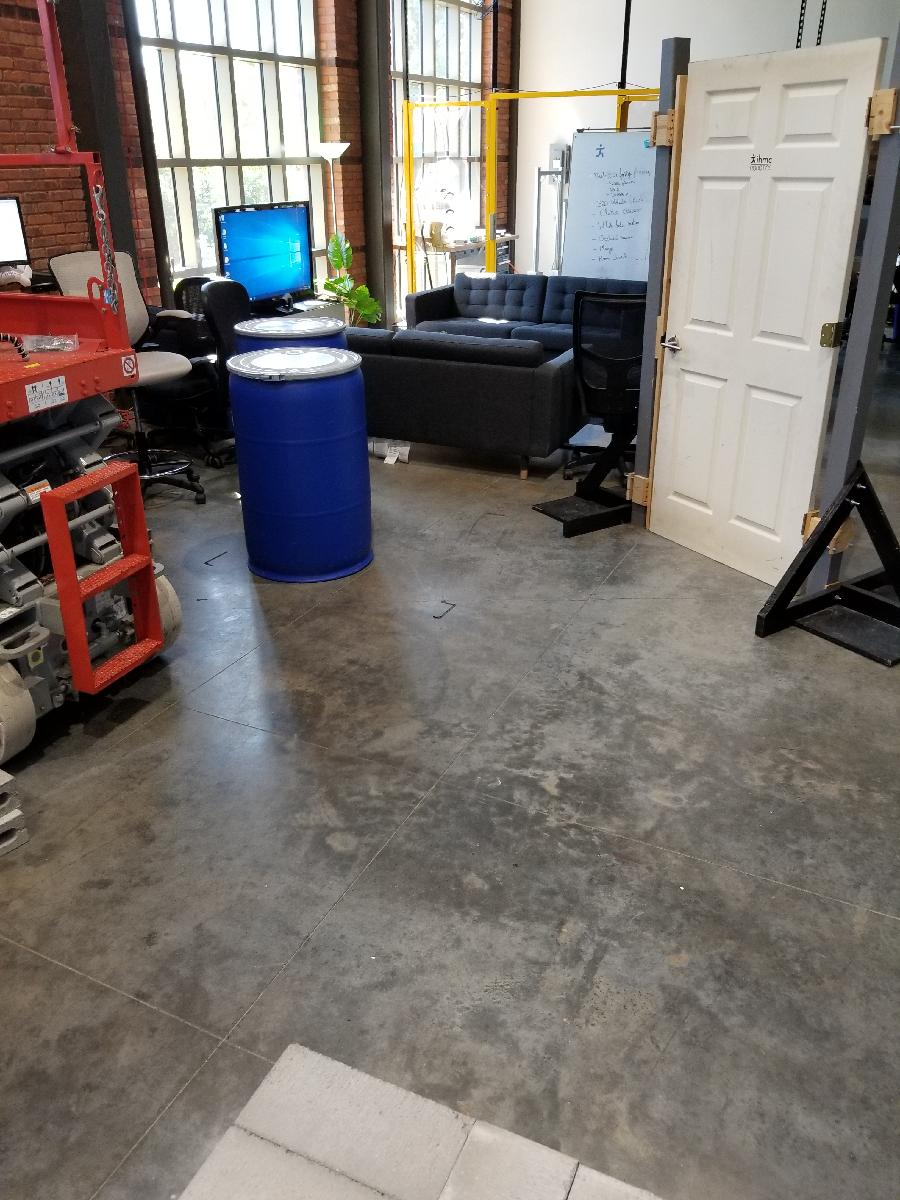door: (645, 35, 894, 607)
doorHandle: (656, 335, 697, 364)
